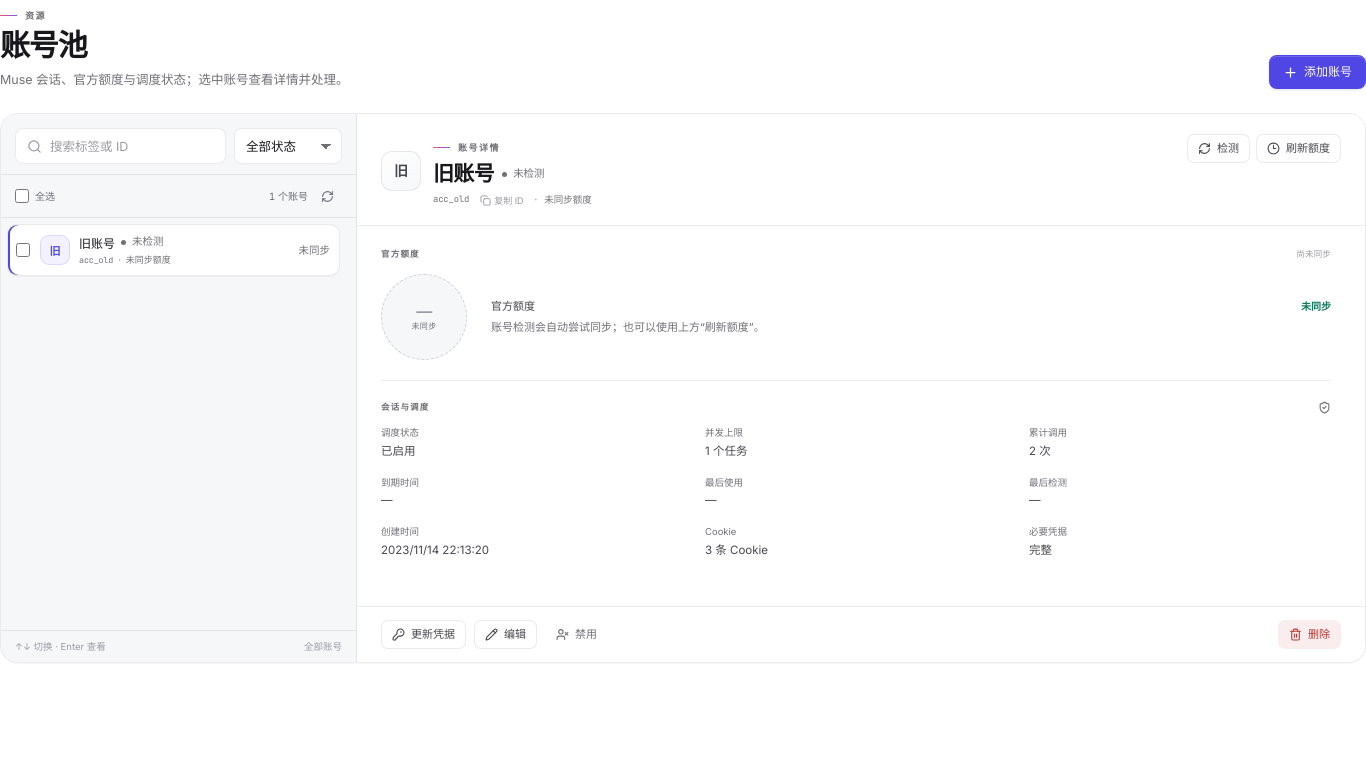
Test: Accounts page › stops the background poll when the imported account settles
expect the heading "旧账号" is shown: met, box [433,162,494,186]
Step 1. Click the button "添加账号" → (1318, 72), box [1269,55,1365,89]
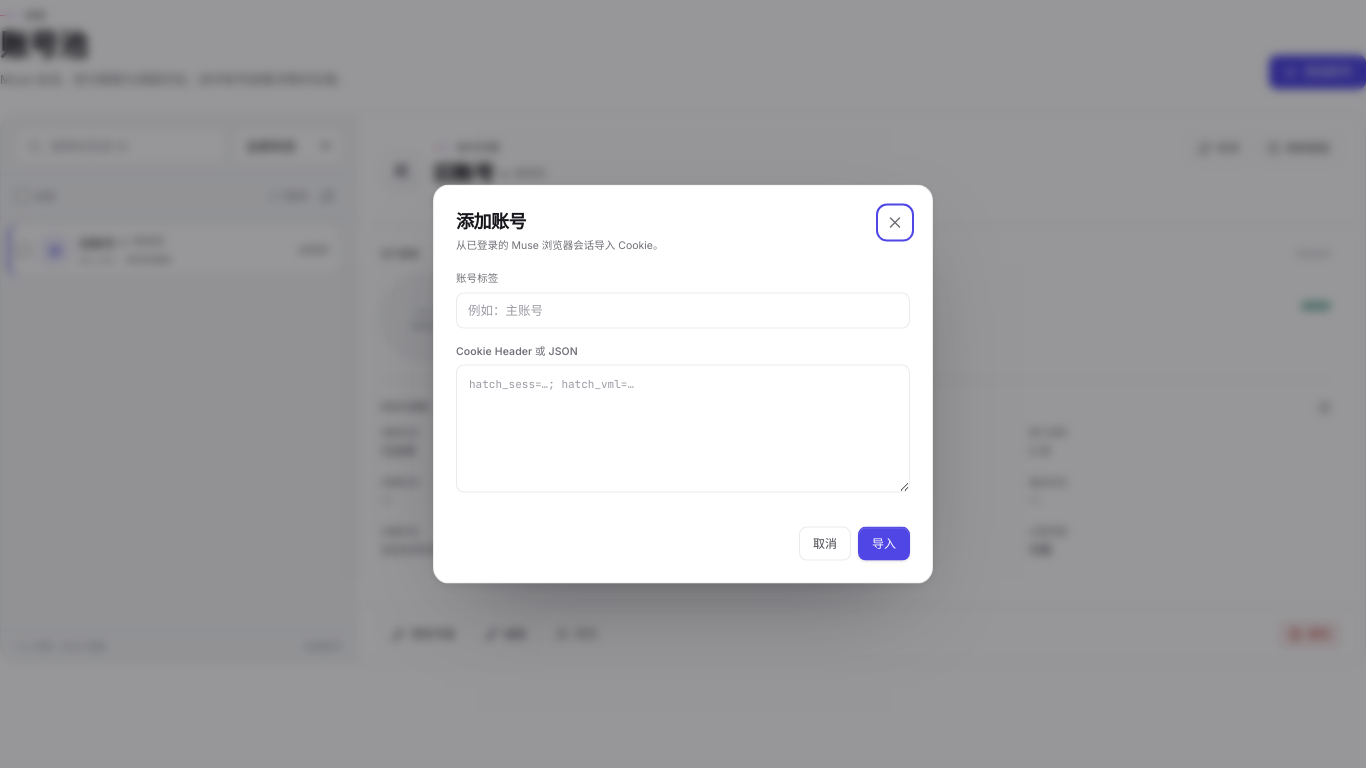
Step 2. Type "新账号" into the field labelled "账号标签" → (683, 310), box [456,292,910,328]
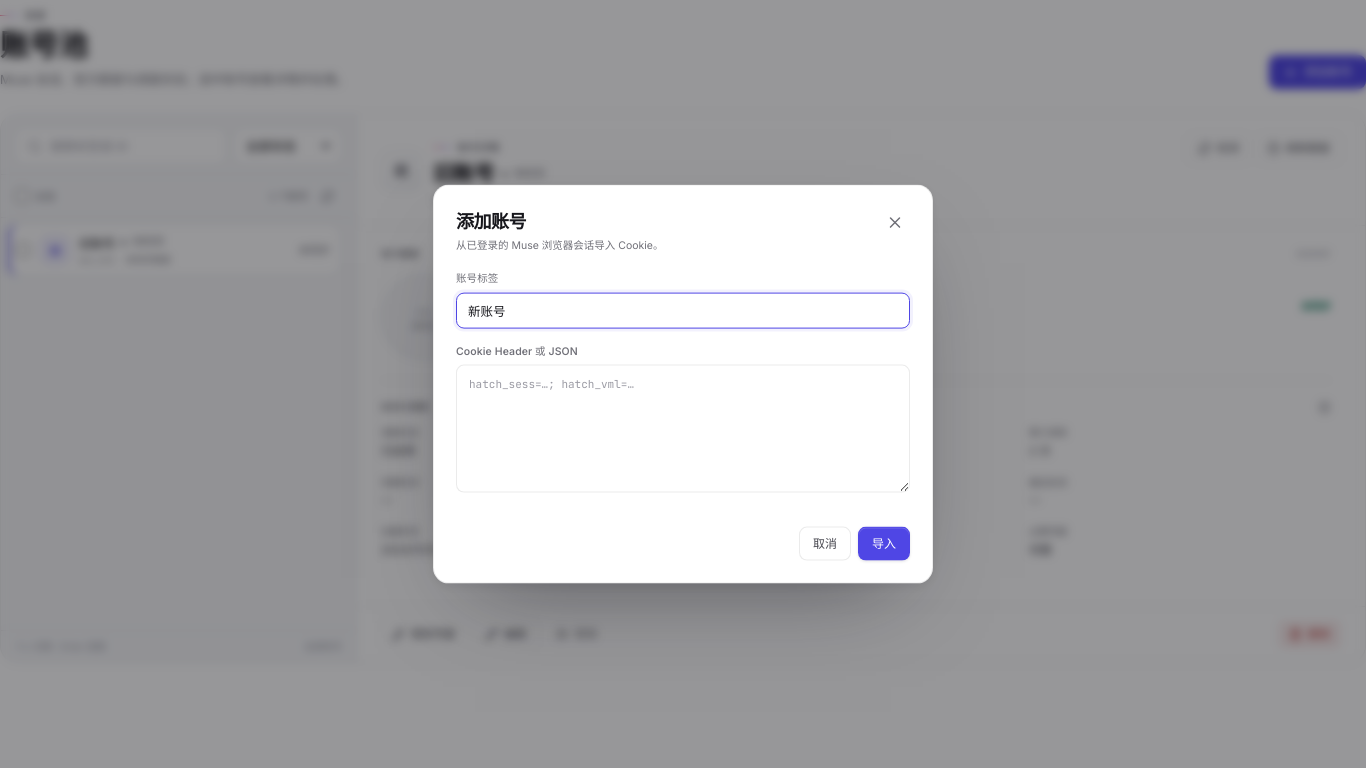
Step 3. Type "hatch_sess=1; hatch_vml=2" into the text box labelled "Cookie Header 或 JSON" → (683, 429), box [456,365,910,492]
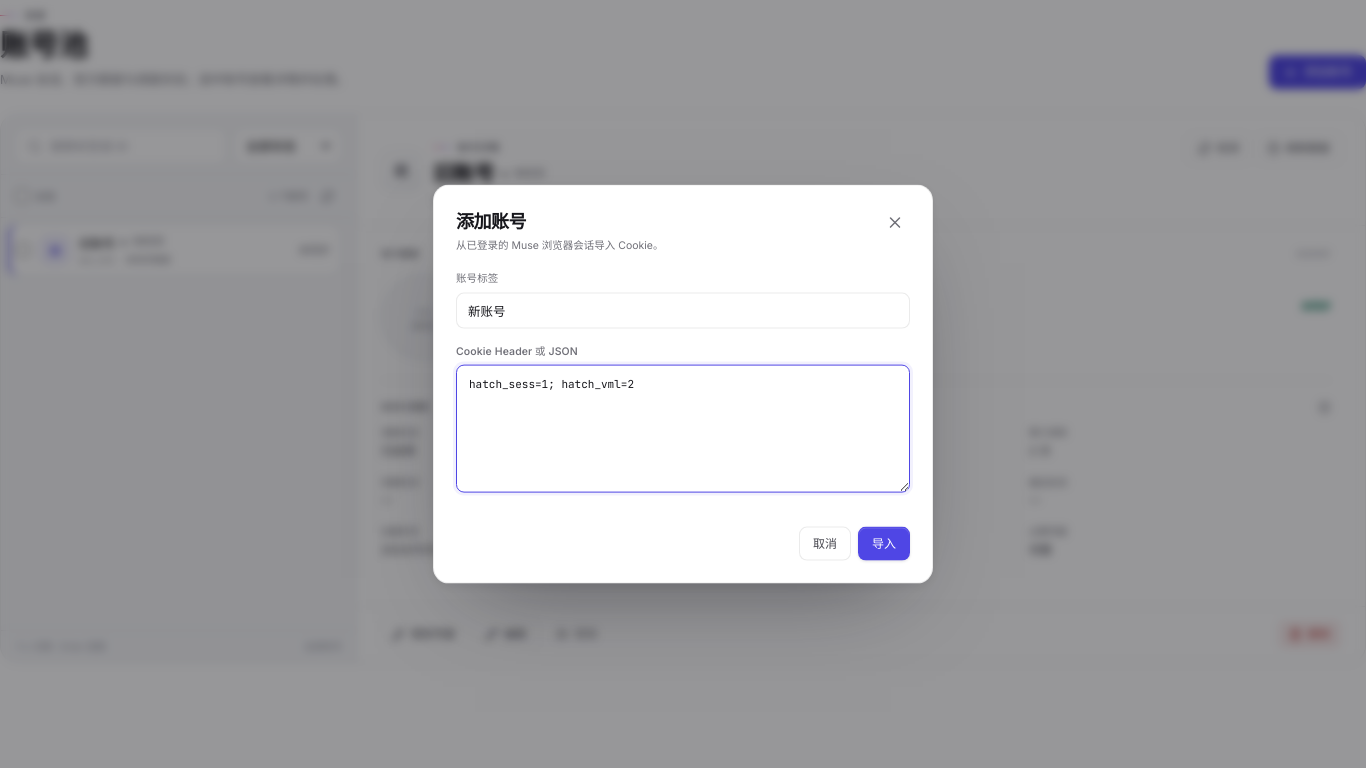
Step 4. Click the button "导入" → (884, 543), box [858,526,910,560]
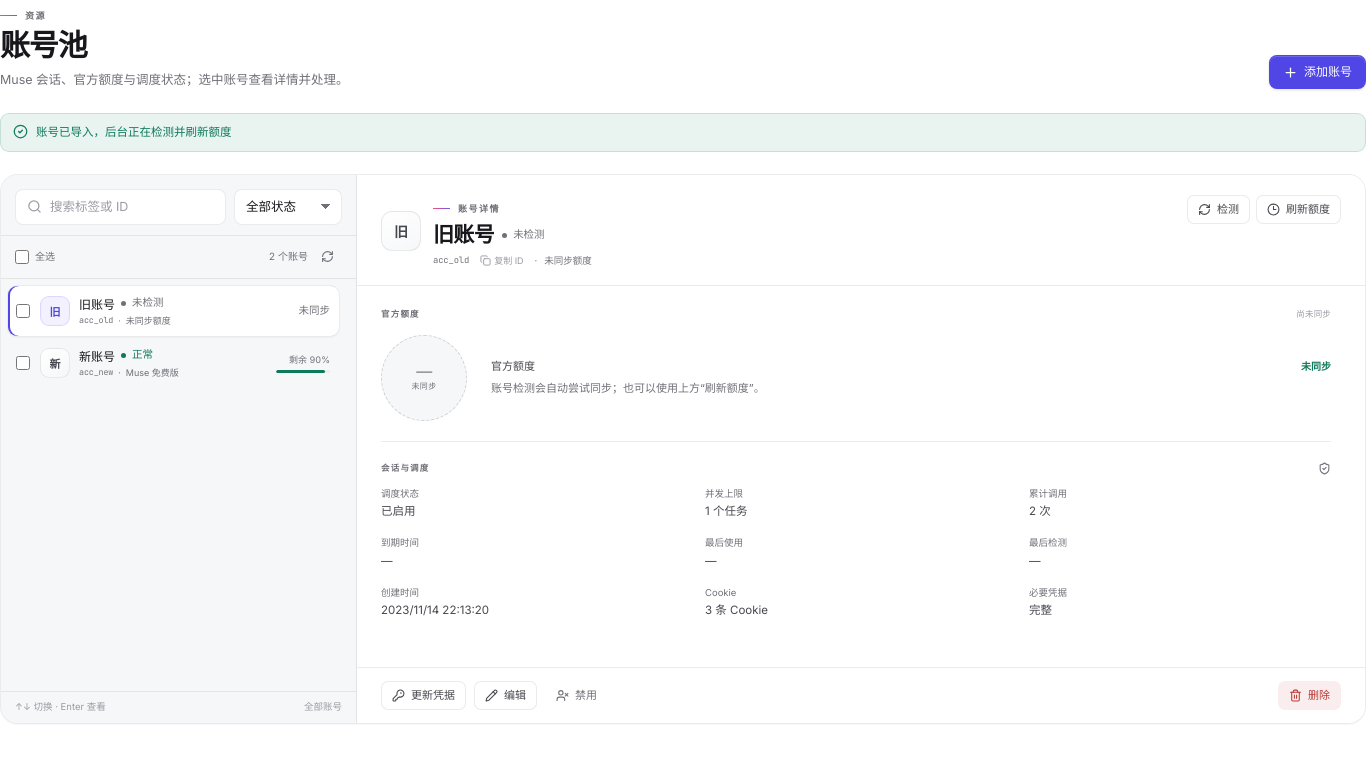
expect the text "账号已导入，后台正在检测并刷新额度" is shown: met, box [0,113,1365,152]
expect the button with aria-label "查看 新账号" is shown: met, box [40,346,330,380]
